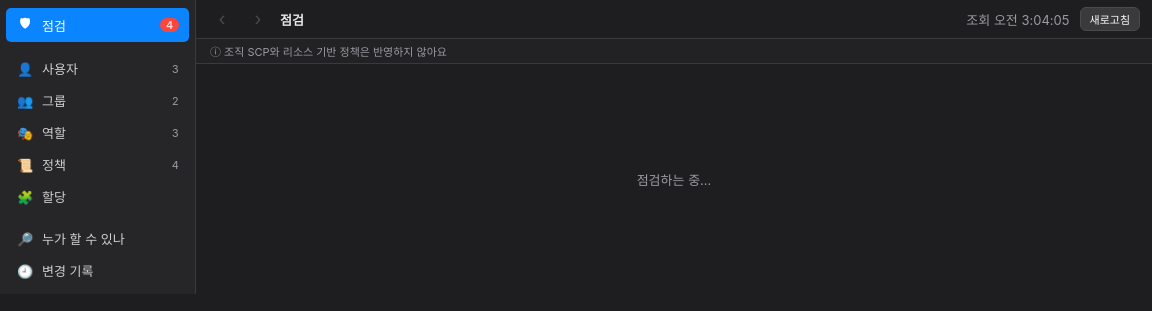
Scenario: menu and lists › switches between users, groups, roles and policies
Expected: the navigation bar named "IAM 메뉴" is shown, x1=0 y1=0 x2=196 y2=294
Click the button "👥 그룹 2": [98, 100] box x1=6 y1=85 x2=189 y2=116
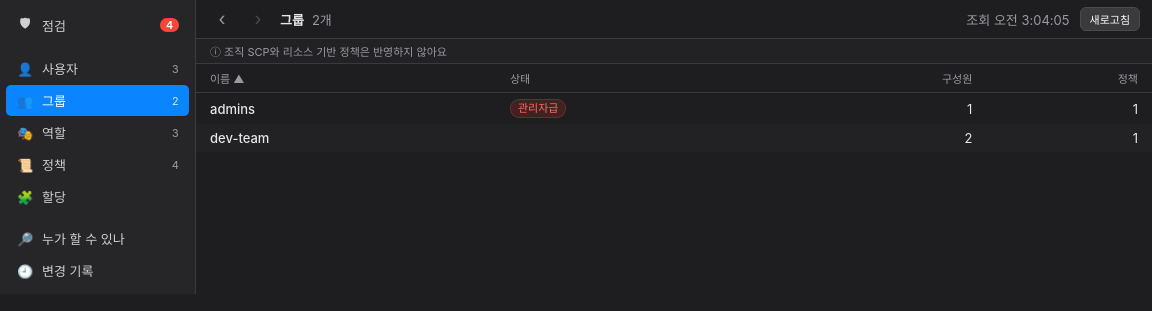
Expected: the text "alice" is not shown
Expected: the text "dev-team" is shown, x1=210 y1=130 x2=269 y2=146
Click the button "🎭 역할 3": [98, 132] box x1=6 y1=117 x2=189 y2=148
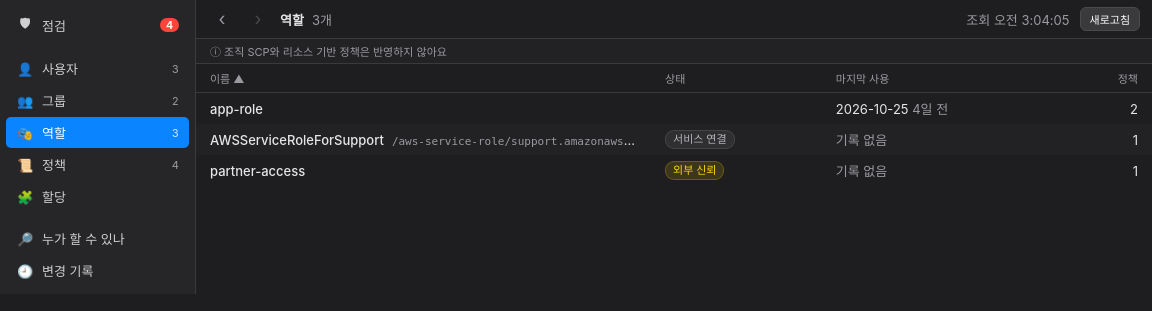
Expected: the text "app-role" is shown, x1=210 y1=100 x2=263 y2=116
Click the button "📜 정책 4": [98, 164] box x1=6 y1=149 x2=189 y2=180
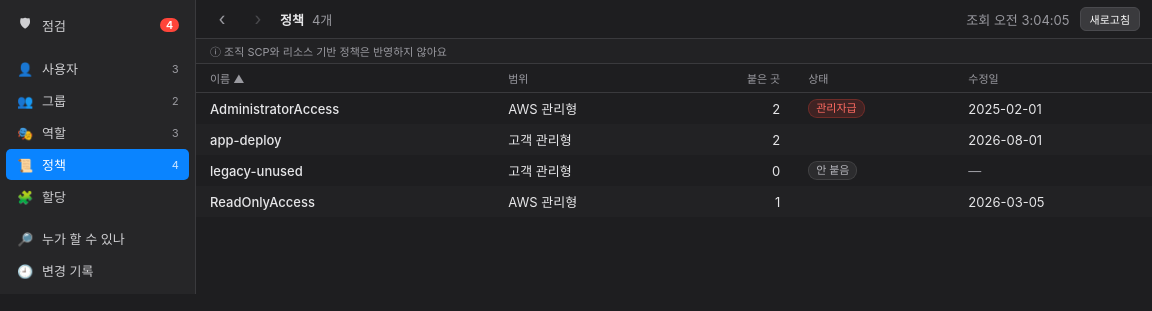
Expected: the text "AdministratorAccess" is shown, x1=210 y1=100 x2=339 y2=116
Click the button "👤 사용자 3": [98, 68] box x1=6 y1=53 x2=189 y2=84
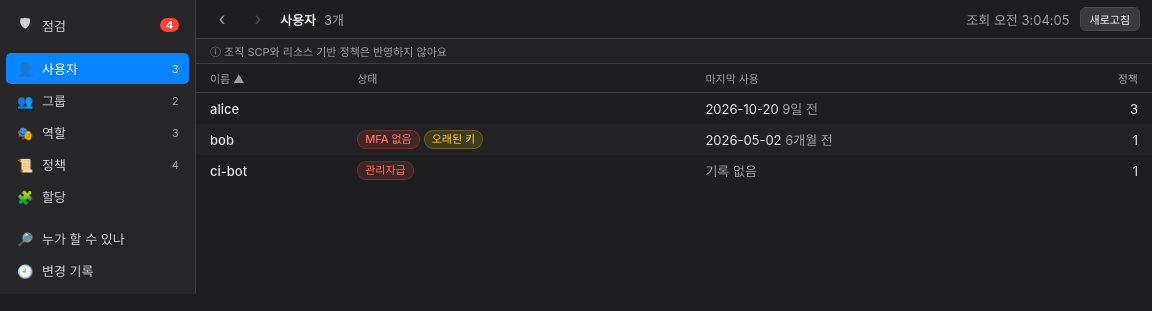
Expected: the text "bob" is shown, x1=210 y1=132 x2=234 y2=148
